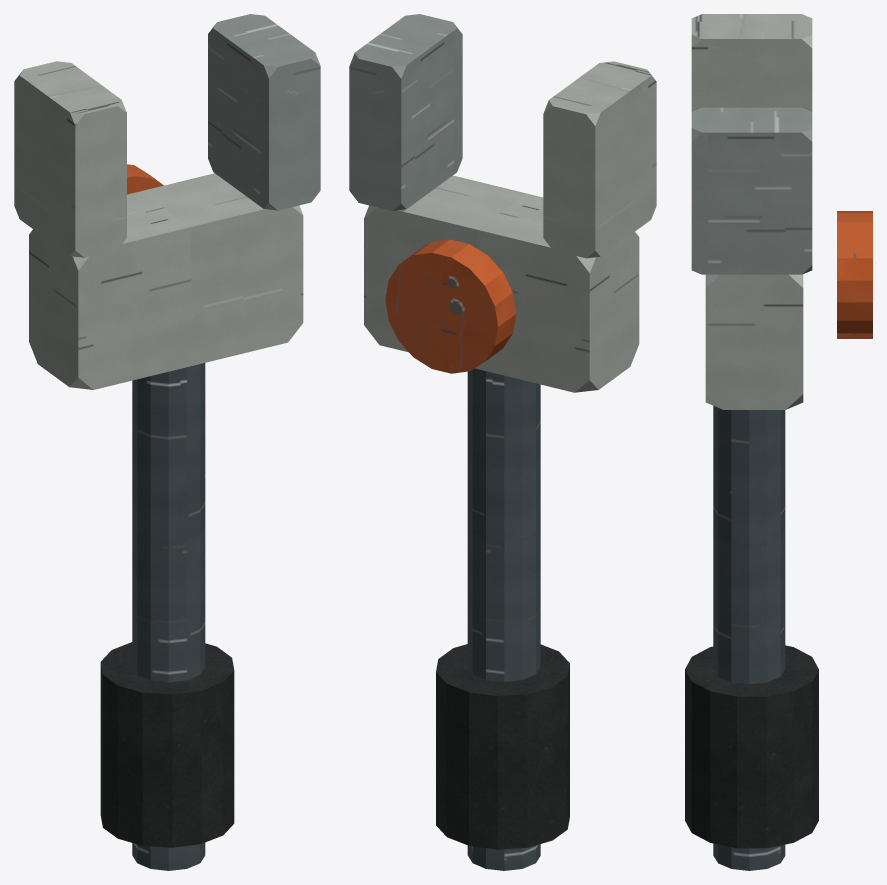
The model's file is field_kit_5.glb.
3 renders of one model, left to right at view 1: azimuth 30°, elevation 25°; view 2: azimuth 150°, elevation 25°; view 3: azimuth 270°, elevation 25°, orthographic.
Parts seen in each view (by area): view 1: ratchet_body_satin_steel, multi_spanner_shaft_dark_alloy, multi_spanner_grip_black_rubber, ratchet_fixed_jaw_satin_steel, ratchet_move_jaw_alloy, ratchet_lock_knob_orange; view 2: ratchet_body_satin_steel, multi_spanner_shaft_dark_alloy, multi_spanner_grip_black_rubber, ratchet_fixed_jaw_satin_steel, ratchet_move_jaw_alloy, ratchet_lock_knob_orange; view 3: multi_spanner_grip_black_rubber, multi_spanner_shaft_dark_alloy, ratchet_move_jaw_alloy, ratchet_body_satin_steel, ratchet_fixed_jaw_satin_steel, ratchet_lock_knob_orange.
Part boxes in pixels (left/top/right/bottom): ratchet_body_satin_steel: left=29, top=173, right=303, bottom=389; multi_spanner_shaft_dark_alloy: left=132, top=363, right=205, bottom=870; multi_spanner_grip_black_rubber: left=100, top=642, right=234, bottom=847; ratchet_fixed_jaw_satin_steel: left=14, top=61, right=126, bottom=257; ratchet_move_jaw_alloy: left=208, top=14, right=320, bottom=210; ratchet_lock_knob_orange: left=127, top=164, right=163, bottom=194; ratchet_body_satin_steel: left=364, top=175, right=639, bottom=392; multi_spanner_shaft_dark_alloy: left=467, top=368, right=540, bottom=870; multi_spanner_grip_black_rubber: left=436, top=644, right=569, bottom=849; ratchet_fixed_jaw_satin_steel: left=543, top=61, right=656, bottom=258; ratchet_move_jaw_alloy: left=349, top=14, right=462, bottom=210; ratchet_lock_knob_orange: left=385, top=239, right=516, bottom=373; multi_spanner_grip_black_rubber: left=685, top=645, right=818, bottom=848; multi_spanner_shaft_dark_alloy: left=713, top=406, right=785, bottom=870; ratchet_move_jaw_alloy: left=691, top=107, right=812, bottom=274; ratchet_body_satin_steel: left=705, top=274, right=803, bottom=409; ratchet_fixed_jaw_satin_steel: left=691, top=14, right=812, bottom=111; ratchet_lock_knob_orange: left=837, top=211, right=872, bottom=338.
Bounding box in the file's own units: 0.109 × 0.3355 × 0.073.
Materials: 5 (5 with a texture image).
